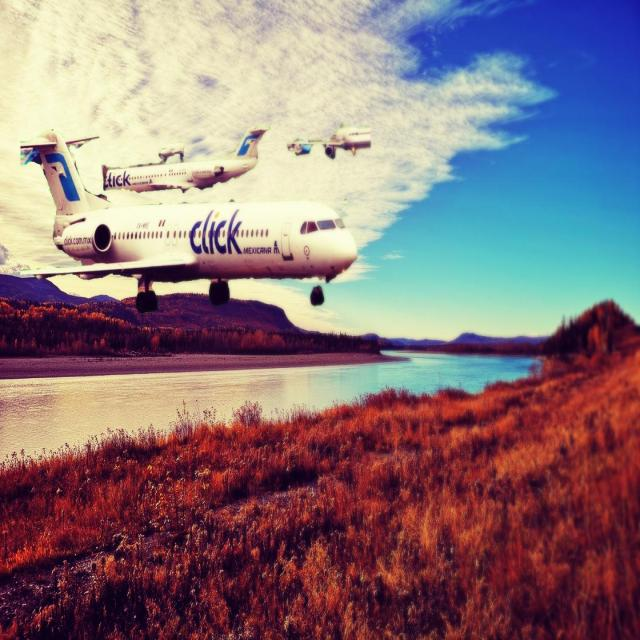airplane: (18, 127, 358, 312), (101, 125, 270, 193), (286, 124, 372, 159)
